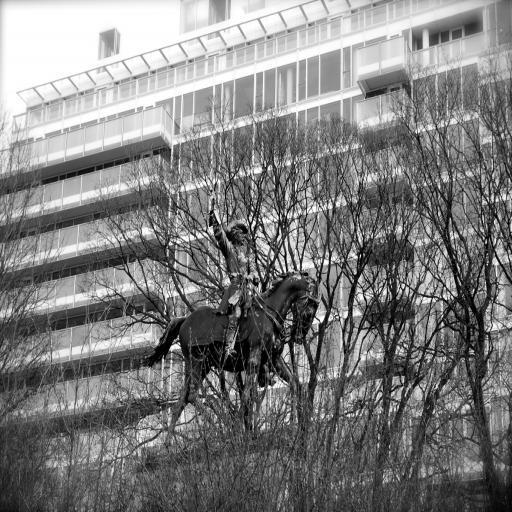horse: (140, 268, 322, 448)
